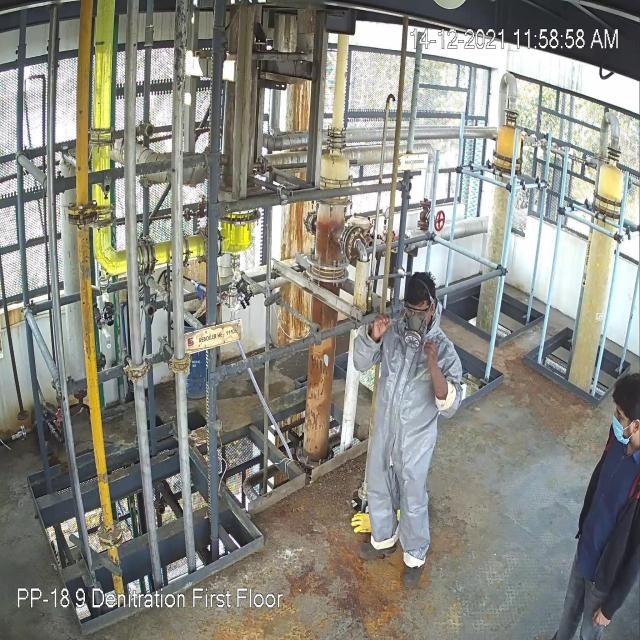No_Gloves: (24, 34, 435, 371)
